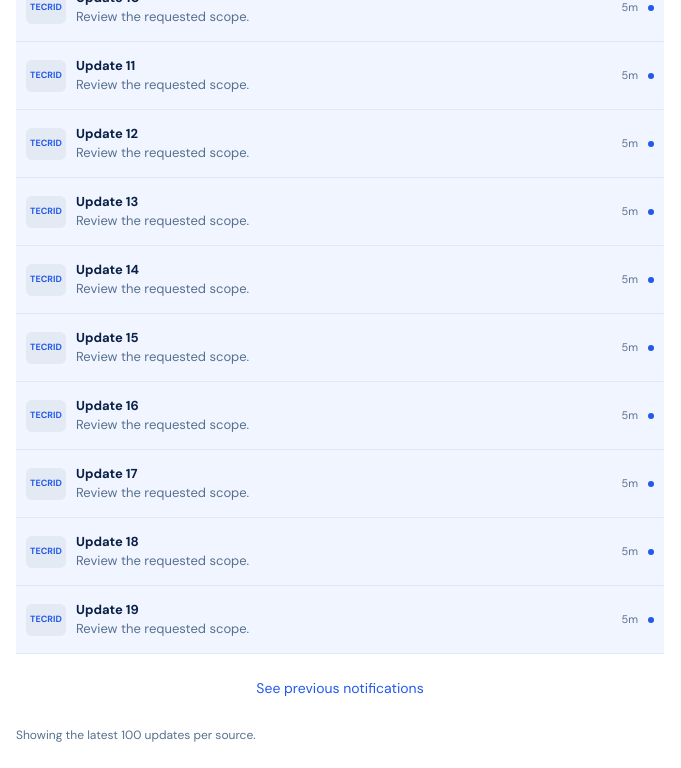
Test: renders compact rows, relative times and twenty-item pagination with accessible filters
The image size is (681, 768).
(page scrolled)
Click the button "See previous notifications".
click(340, 688)  # box [242,666,438,710]
(page scrolled)
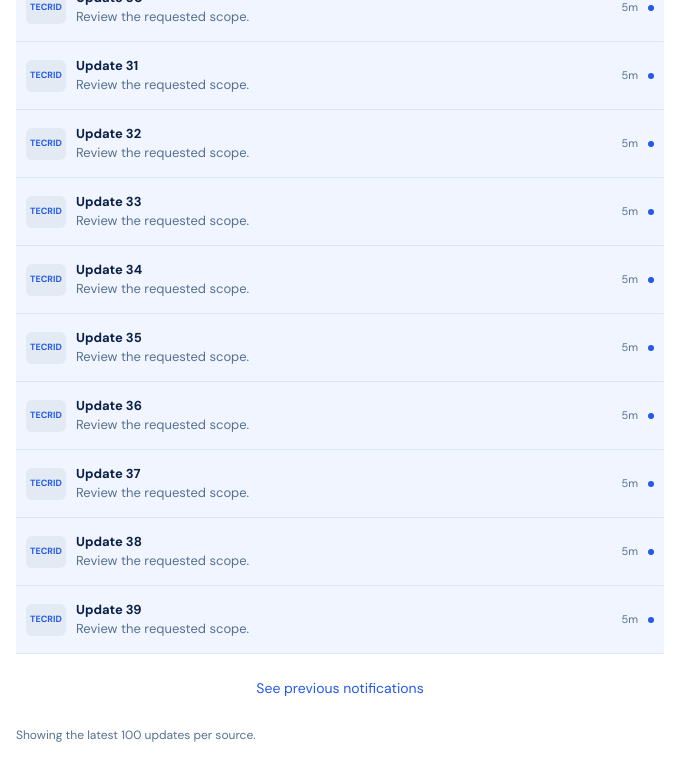
Click the button "See previous notifications".
click(340, 688)  # box [242,666,438,710]
(page scrolled)
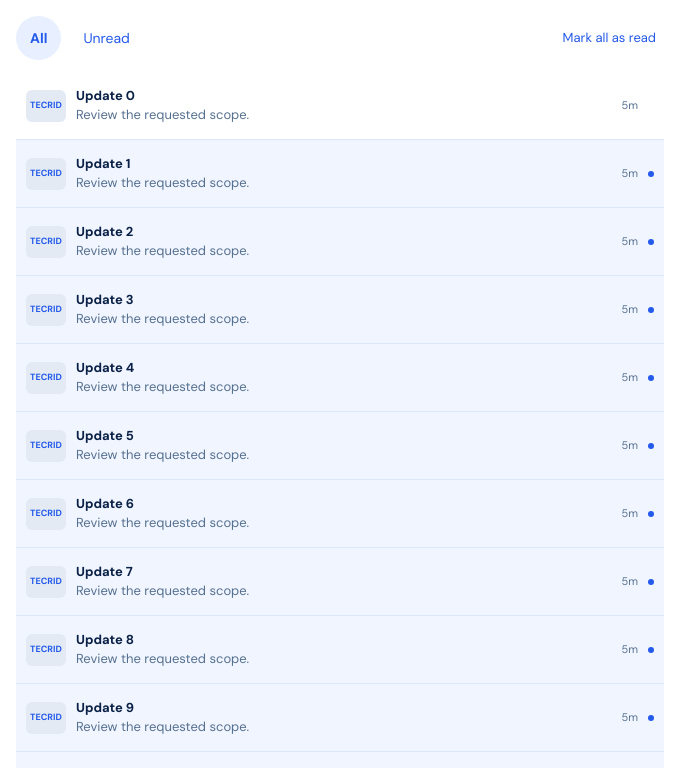
Check: the number of links with class "notification-row" is 45
Check: the button "See previous notifications" is gone
Click the button "Unread".
click(107, 38)  # box [69,16,144,60]
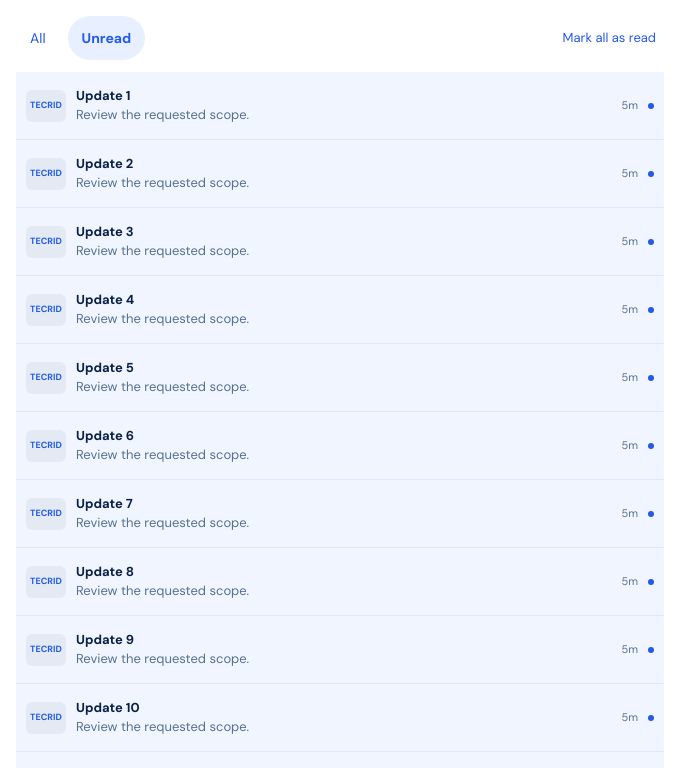
Check: the number of links with class "notification-row" is 20
